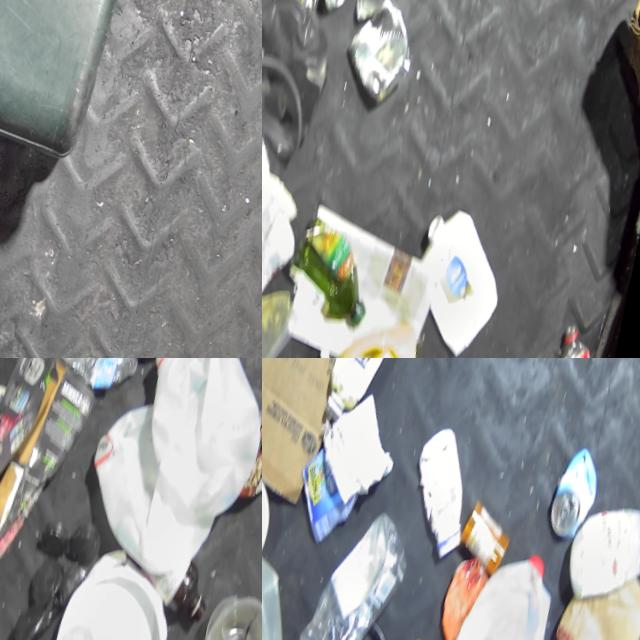can: (329, 0, 423, 111), (535, 445, 606, 550), (422, 552, 490, 640), (262, 0, 326, 14)
milk_jug: (60, 392, 240, 592), (112, 358, 262, 532), (388, 205, 512, 358), (410, 537, 565, 640), (550, 498, 640, 614)
non_white_jug: (262, 0, 344, 169), (305, 304, 422, 358)
plastic_bottle: (275, 501, 418, 640), (46, 358, 147, 402), (528, 318, 595, 358)
